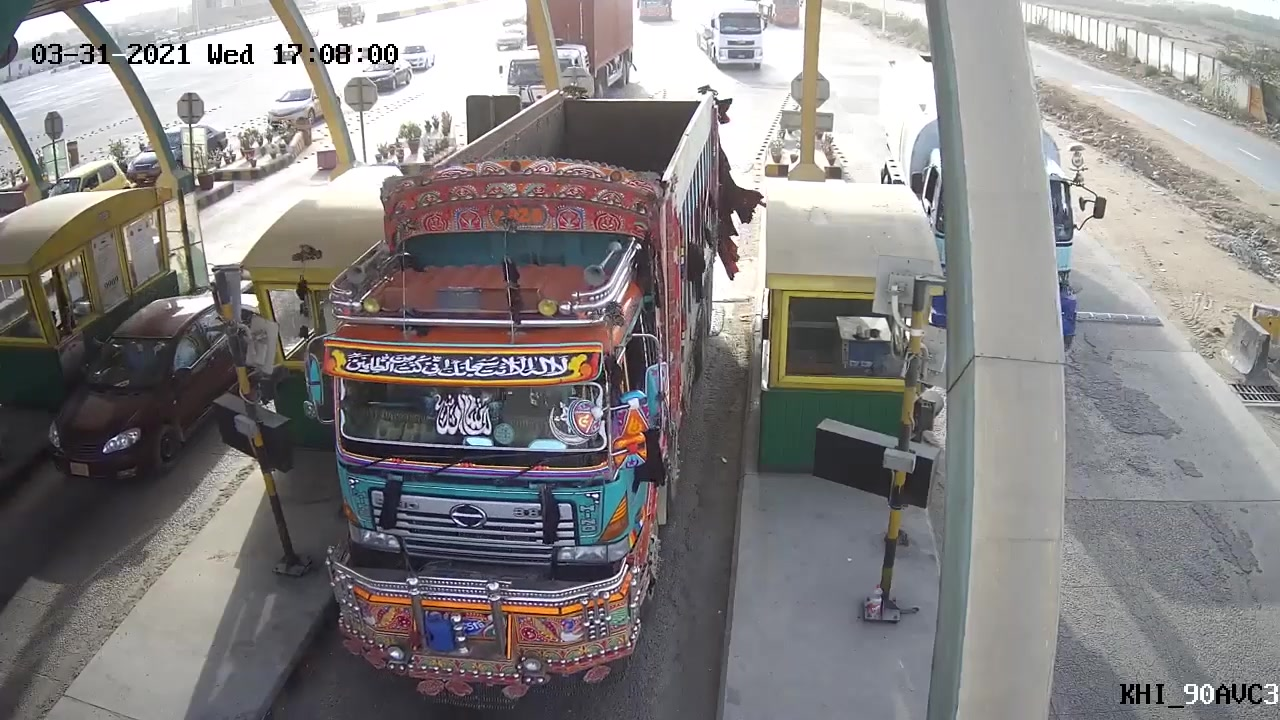F5: (331, 87, 726, 707)
